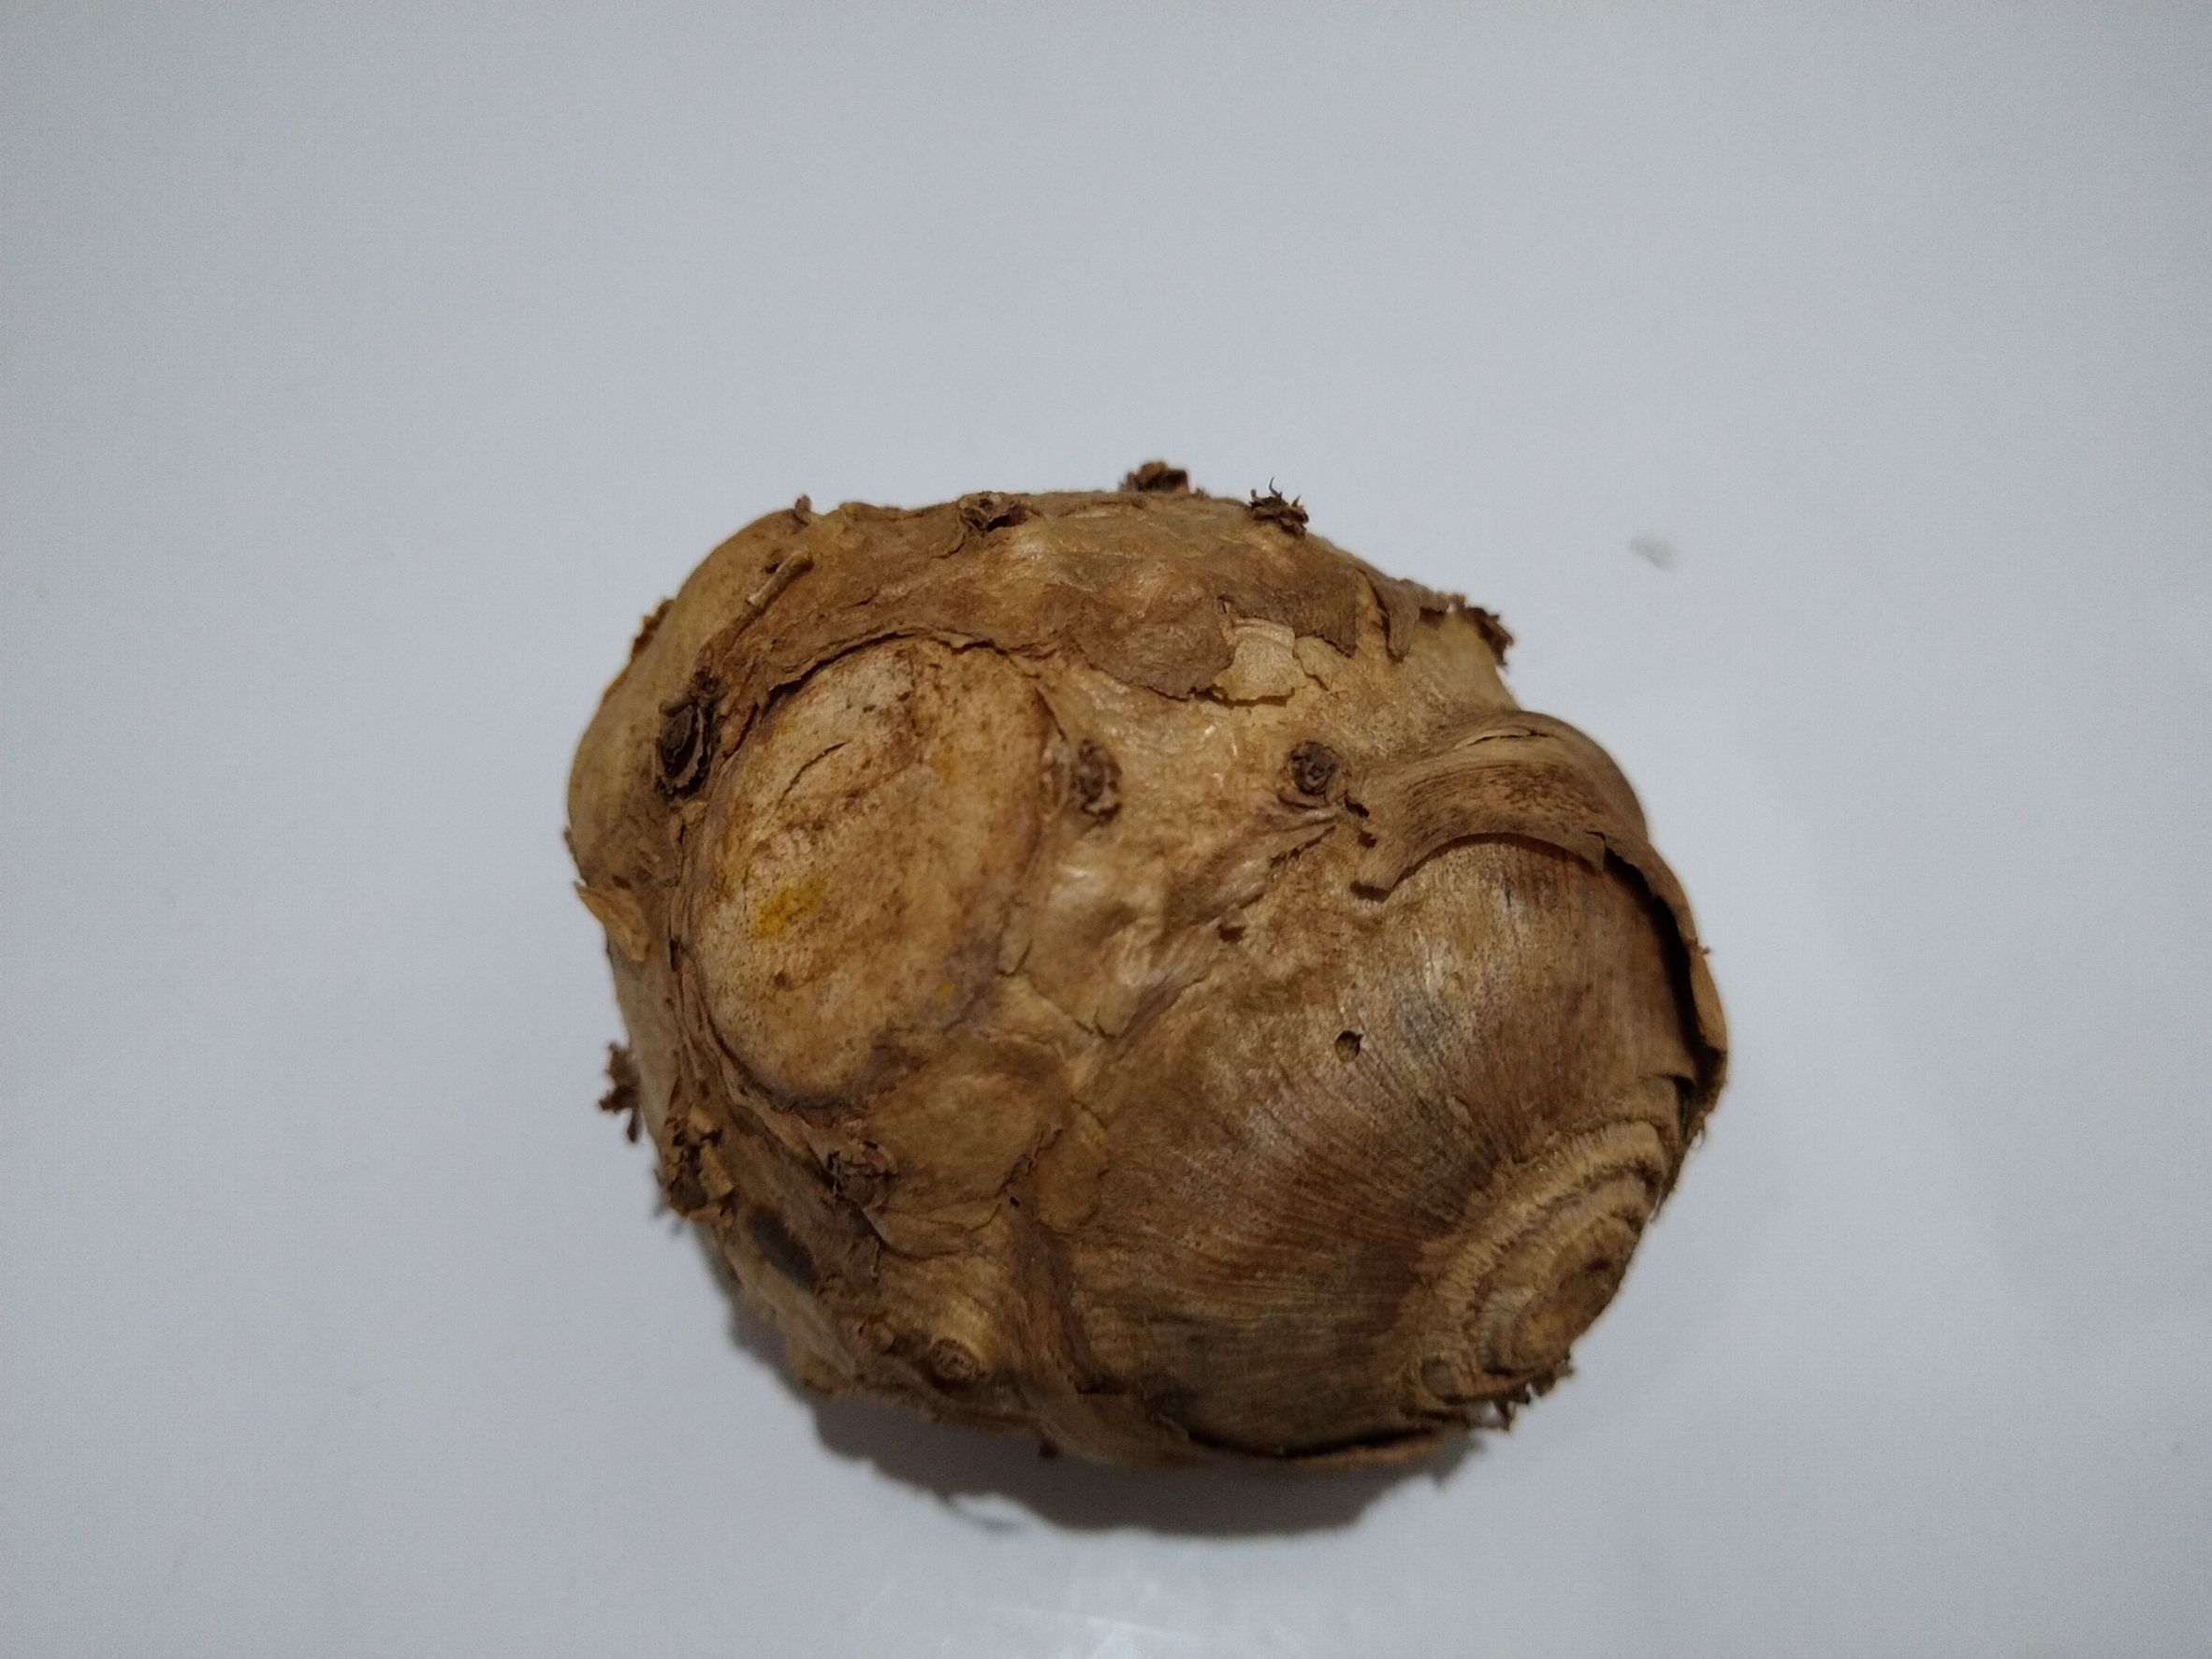Temulawak: (556, 479, 1737, 1481)
